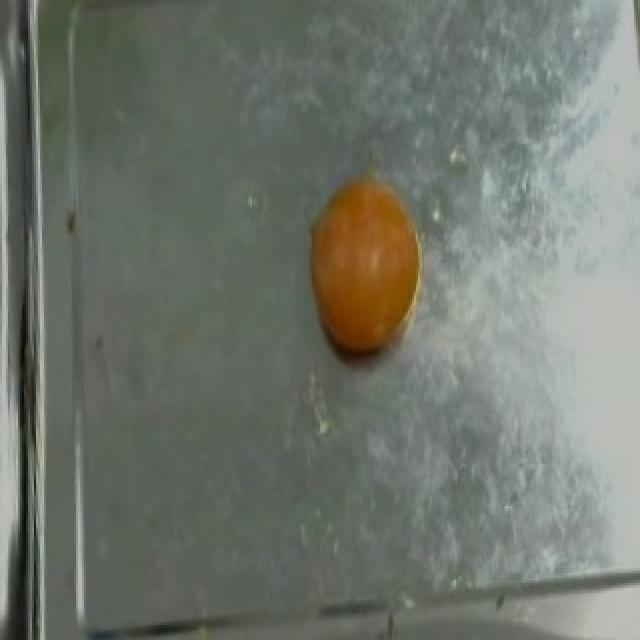Fruit: (296, 156, 442, 372)
